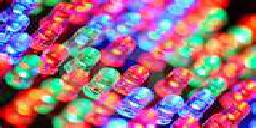LED: (123, 85, 155, 118), (102, 36, 132, 66), (5, 31, 30, 57), (188, 91, 214, 115), (72, 46, 97, 68)
